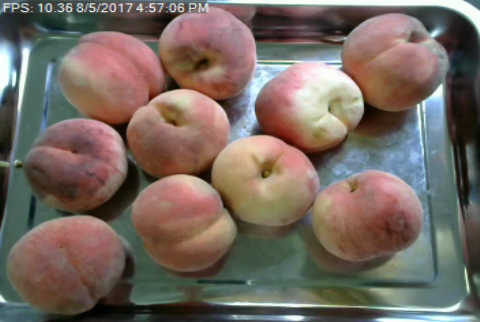Peach: (7, 214, 125, 315), (340, 11, 447, 113), (309, 168, 423, 261), (132, 174, 235, 273), (210, 135, 317, 228), (59, 29, 161, 126), (253, 61, 360, 152), (24, 118, 128, 211), (126, 87, 230, 177), (159, 6, 256, 99)
